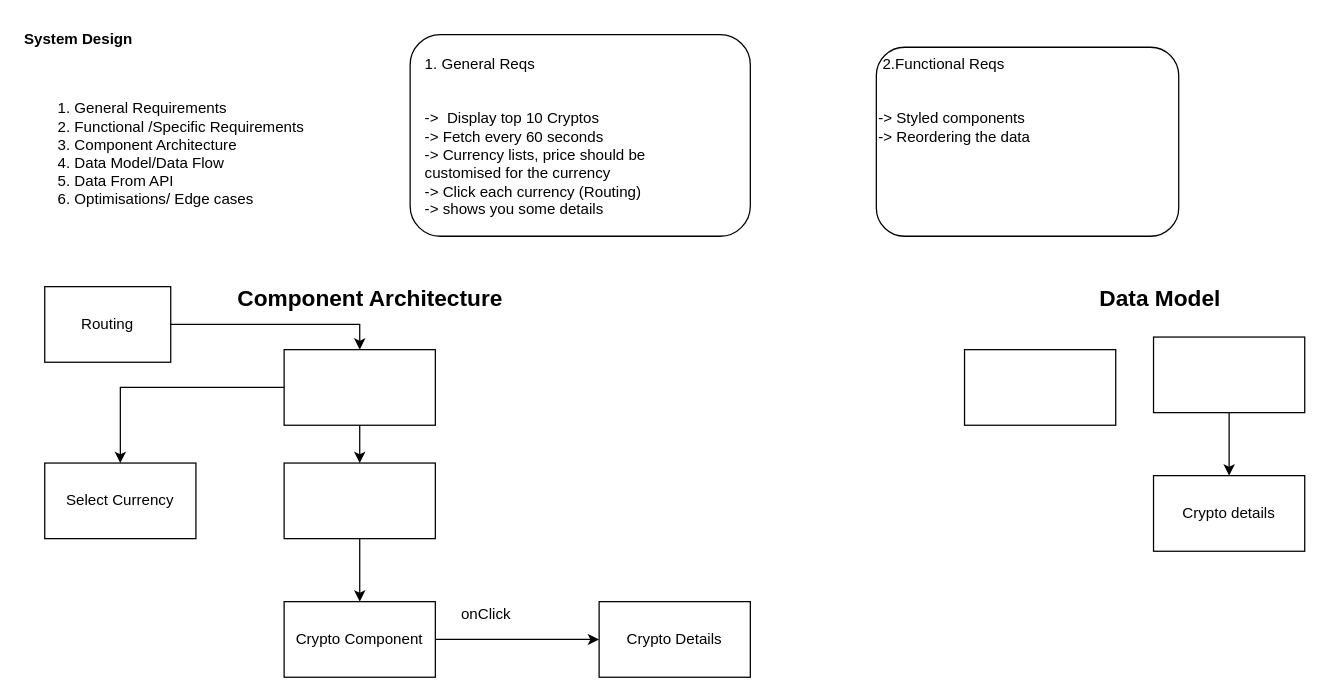
The diagram is 1327 pixels wide and 699 high, and some of its shapes have lost their labels. The shapes that lost their labels are listed below. From the top down, each one's box as (x1, y1, x2, y2) in pixels, then its label:
(283, 348, 435, 425): Content
(963, 348, 1116, 425): Currency List
(1152, 336, 1305, 413): Top 10 Cryptos
(283, 462, 435, 539): List of Cryptos (10)
